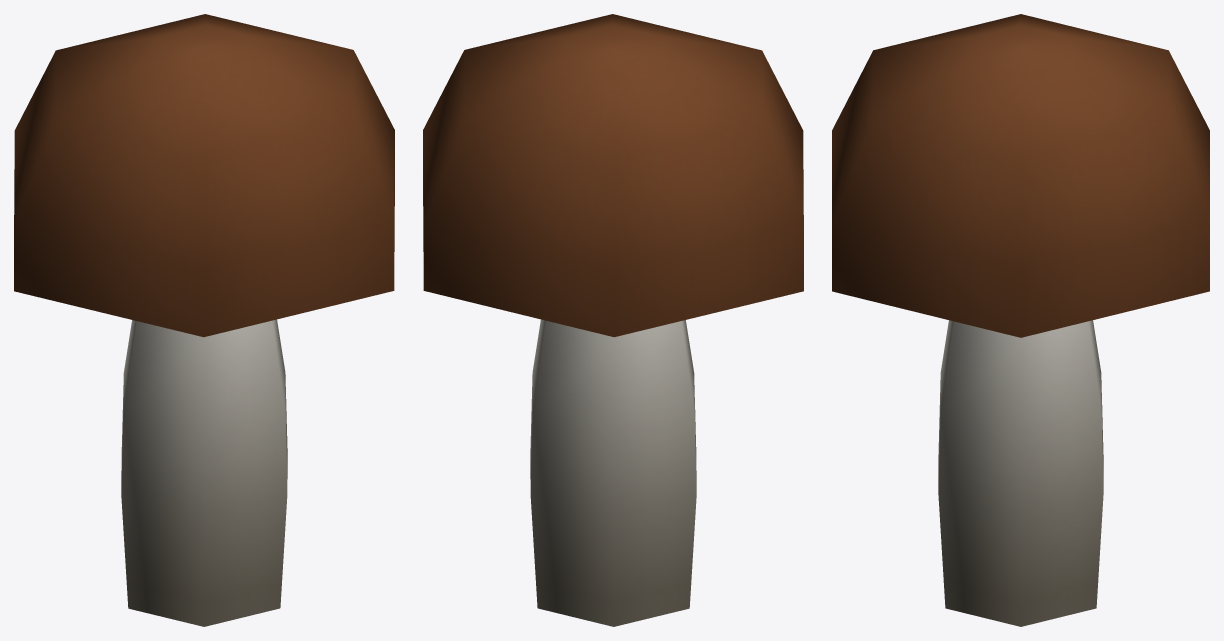
Rendered from Mushroom_2.fbx.
The picture shows the model from 3 angles, left to right: view 1: azimuth 30°, elevation 25°; view 2: azimuth 150°, elevation 25°; view 3: azimuth 270°, elevation 25°; orthographic projection.
Visible parts, largest first — view 1: Mushroom_2; view 2: Mushroom_2; view 3: Mushroom_2.
Boxes of the visible parts, <box> form: Mushroom_2: <box>14,14,394,626</box>; Mushroom_2: <box>423,14,803,626</box>; Mushroom_2: <box>832,14,1209,626</box>.
Bounding box in the file's own units: 0.1962 × 0.3098 × 0.2282.
